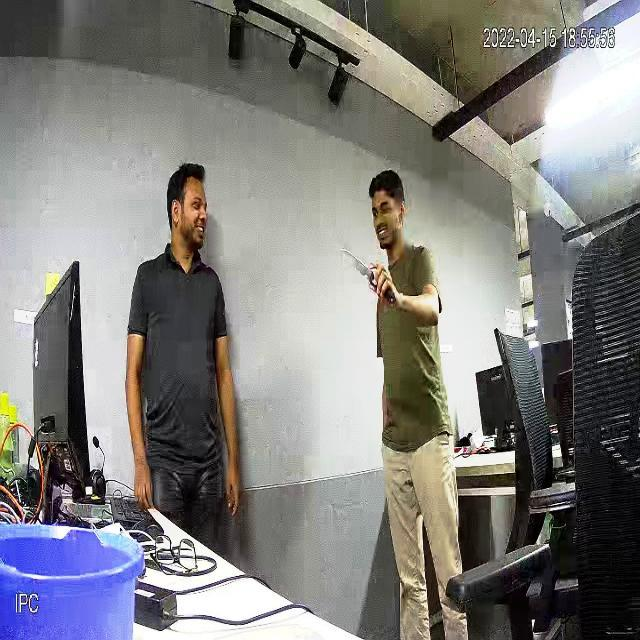Knife: (334, 228, 406, 298)
